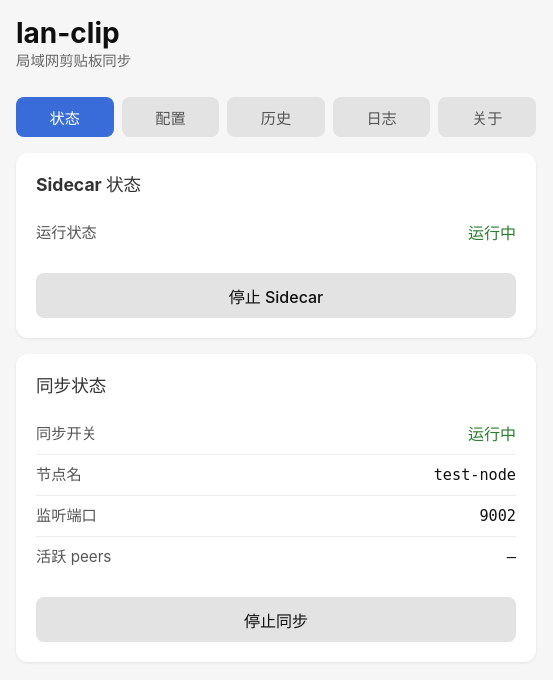
Test case: App about tab › shows about info after clicking 关于 tab
Click the button "关于": (487, 117) [438,97,536,137]
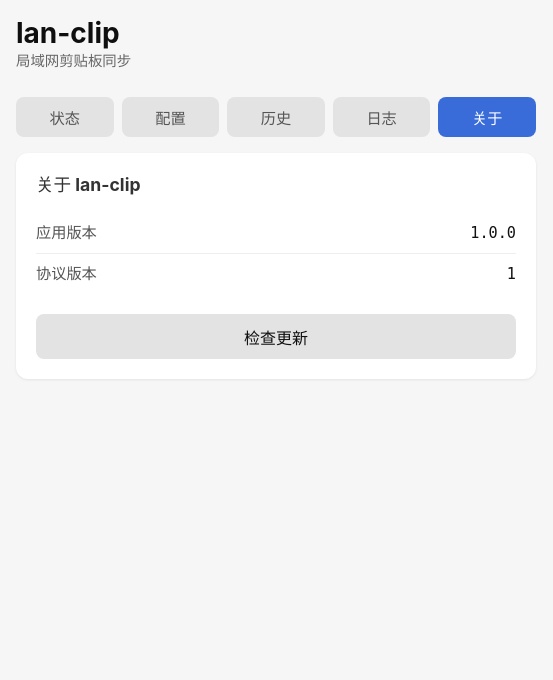
Expected: the text "版本" is shown, [36,221,97,245]
Expected: the text "协议版本" is shown, [36,262,97,286]
Expected: the text "1.0.0" is shown, [470,221,516,245]
